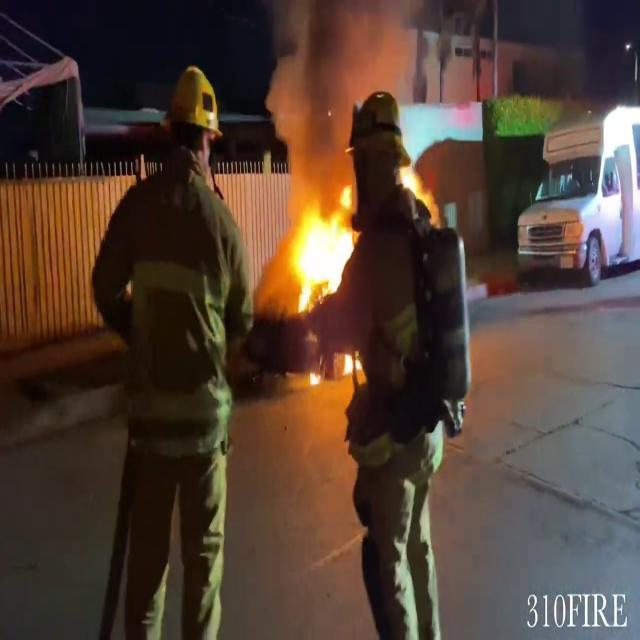Fire: (287, 180, 365, 317)
Smoke: (261, 0, 425, 157)
